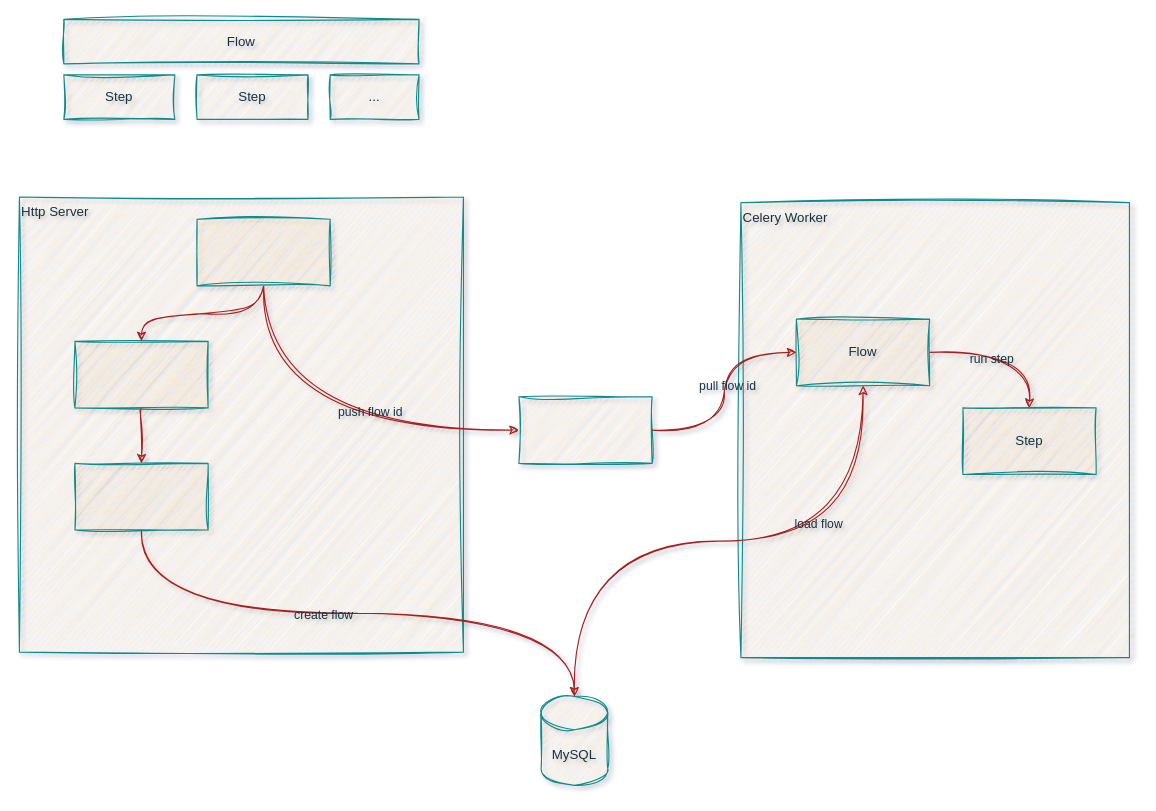
The diagram is 1156 pixels wide and 811 high, and some of its shapes have lost their labels. The centre of each missing label's shape, as x and y in pixels:
Flow Builder: point (141, 496)
FlowBiulder Factory: point (141, 374)
Handler: point (263, 252)
RabbitMQ: point (585, 429)
